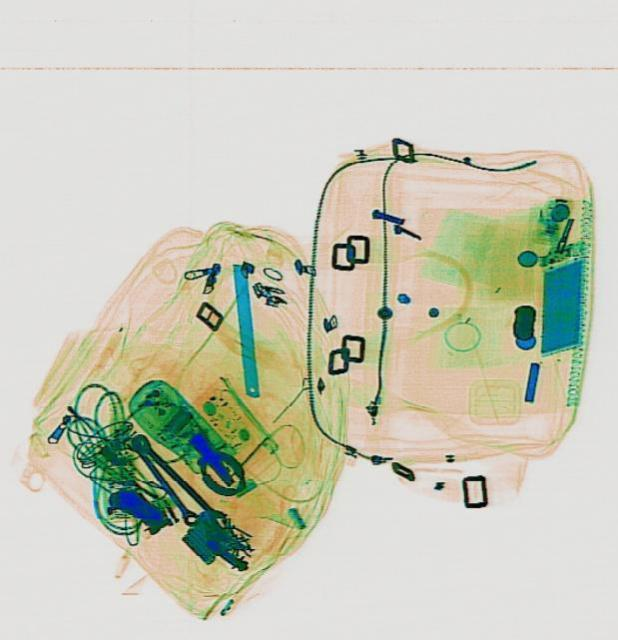Wrench: (123, 432, 202, 528)
